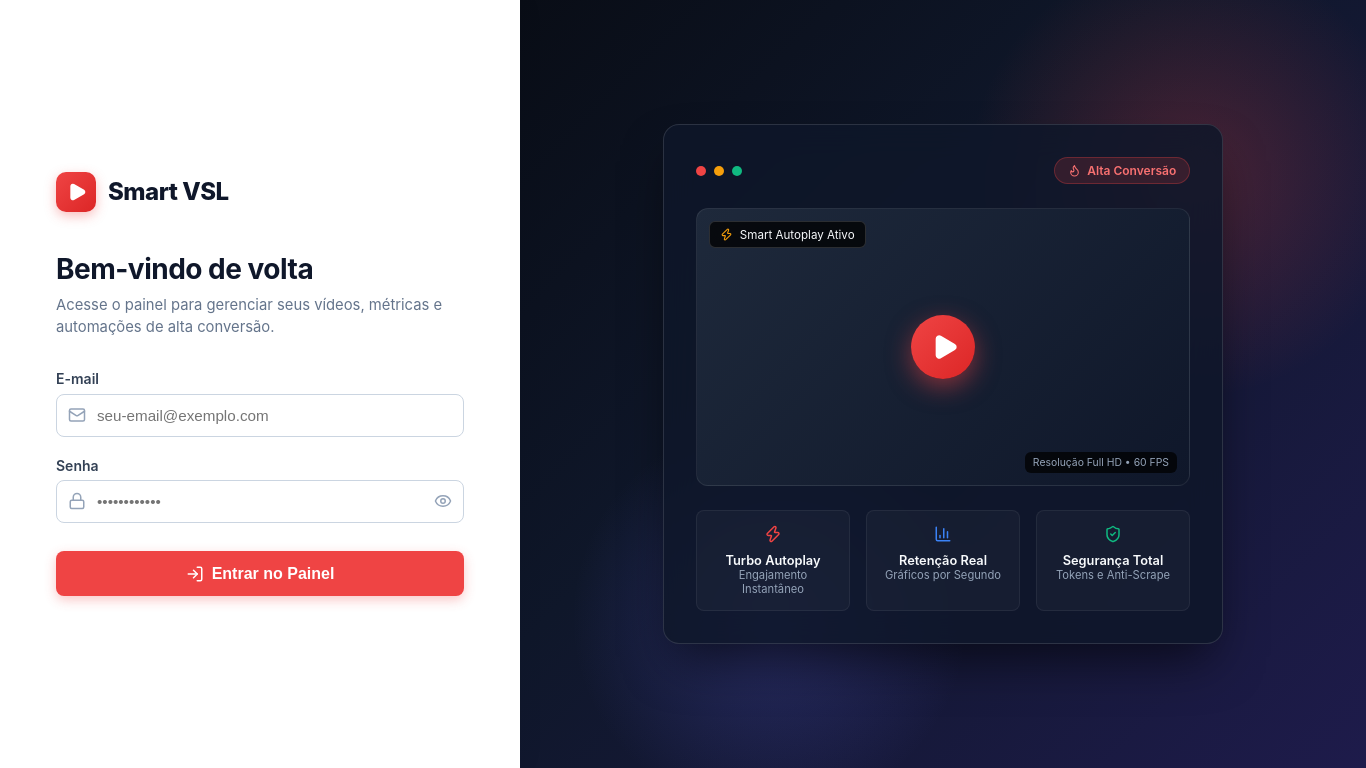
LoginView Component › exibe erro de validação se tentar enviar com campos vazios
Click the button with test id "login-submit-btn": (260, 574) [56,551,464,596]
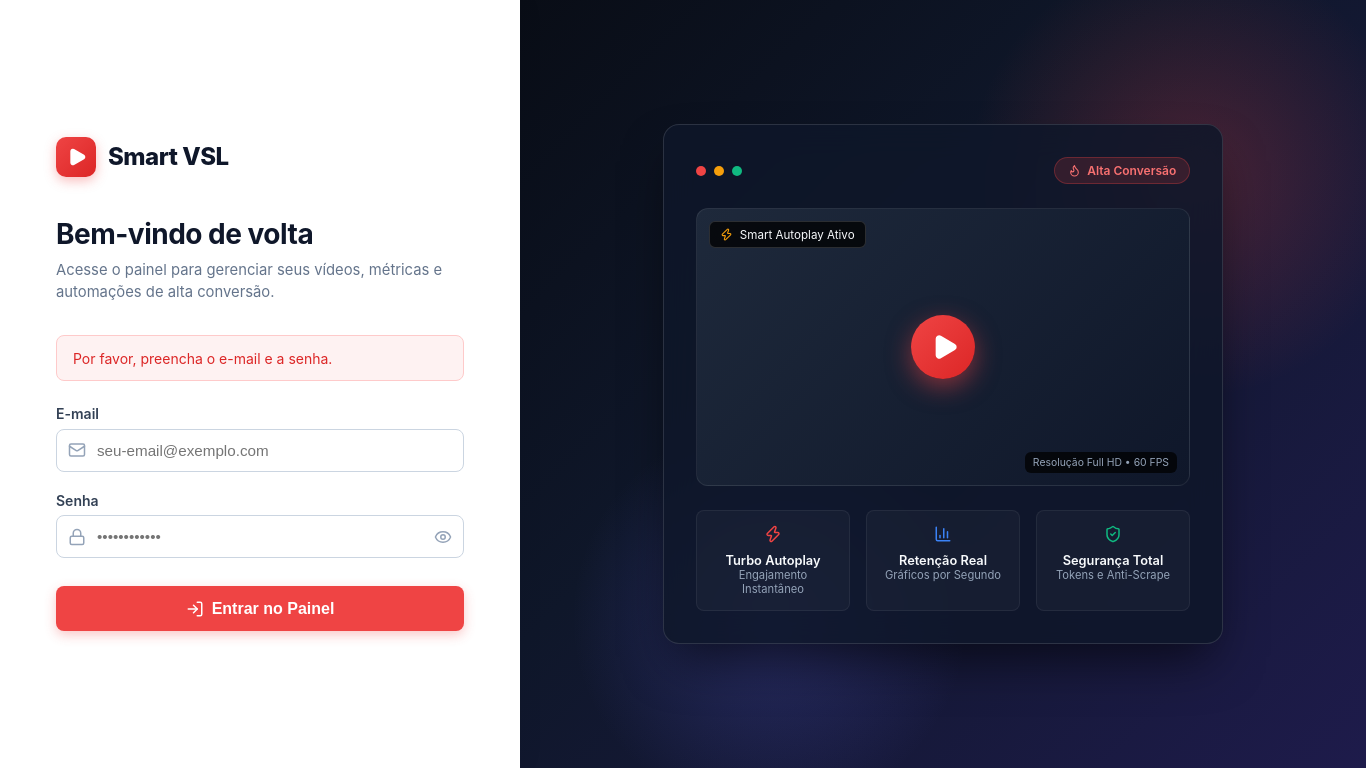
Result: the element with test id "login-error-message" reads "Por favor, preencha o e-mail e a senha." at [73,350,332,367]
